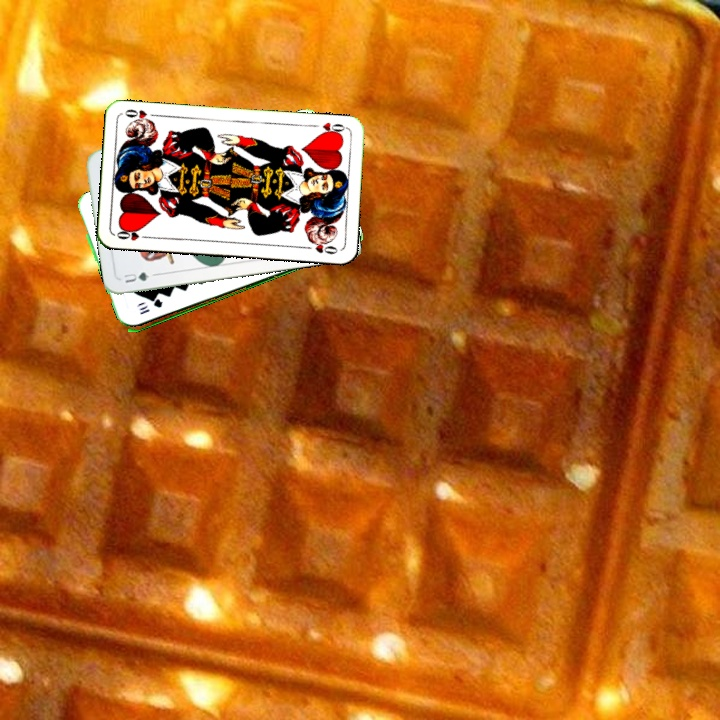G10: (136, 297, 165, 317)
GU: (120, 268, 152, 286)
HO: (112, 224, 152, 243), (316, 118, 349, 138)
